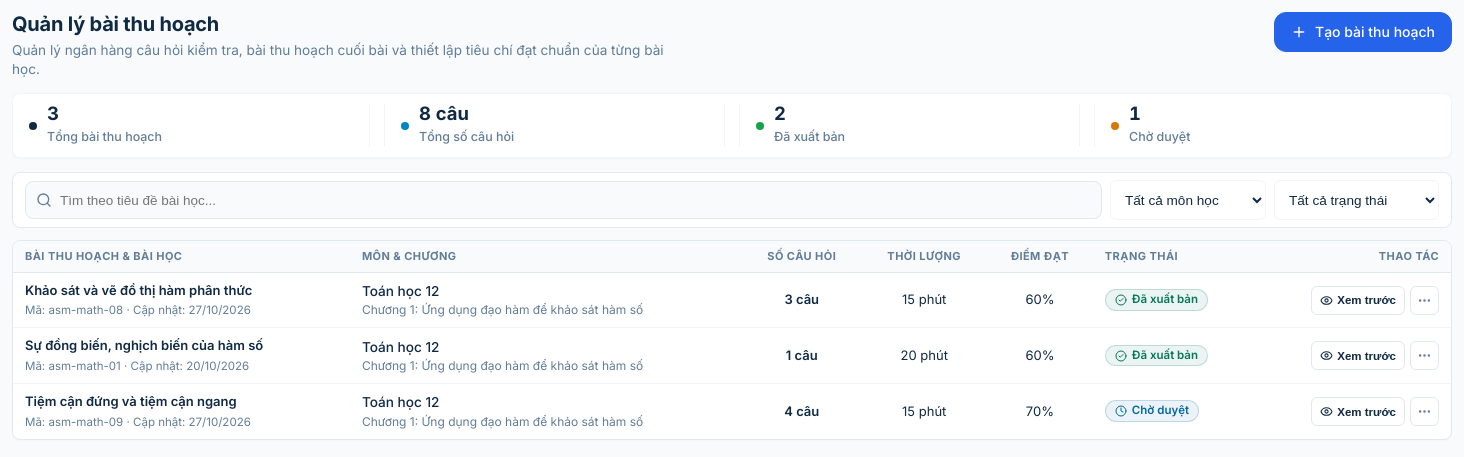
Test: Content Workspace UI & Interaction Suite › 5c. Action Dropdown opens secondary menu with add question, edit, status, and delete options
Click the button named "Thao tác khác": (1424,300) [1410, 286, 1439, 315]
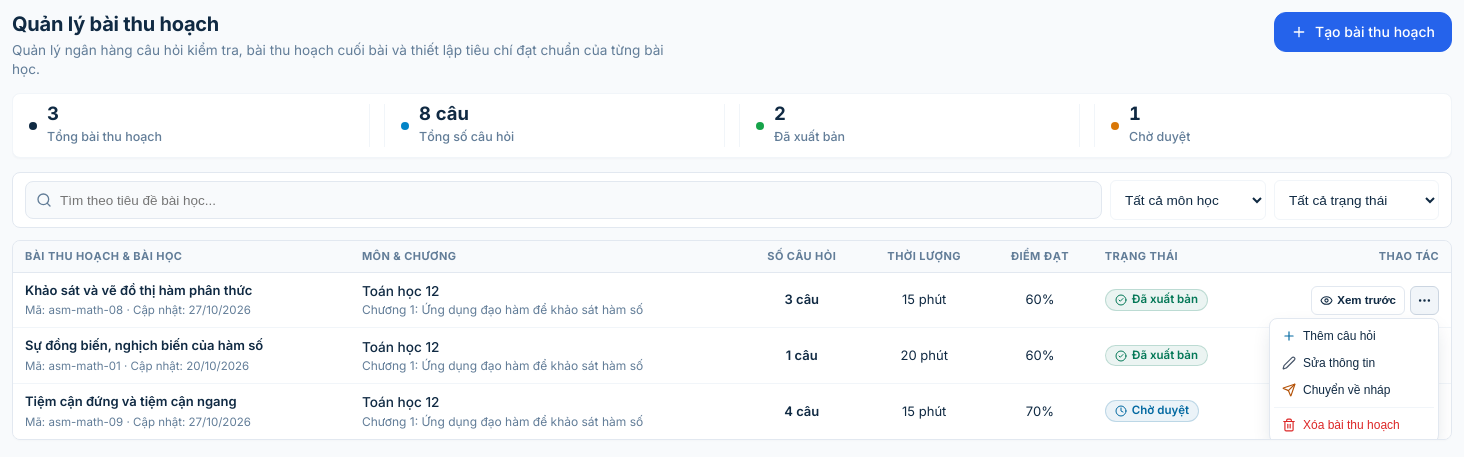
Check: the menu is shown, box [1269, 318, 1439, 440]
Check: the text "Thêm câu hỏi" is shown, box [1303, 329, 1376, 343]
Check: the text "Sửa thông tin" is shown, box [1303, 356, 1375, 370]
Pressing Escape closes menu
Press Escape
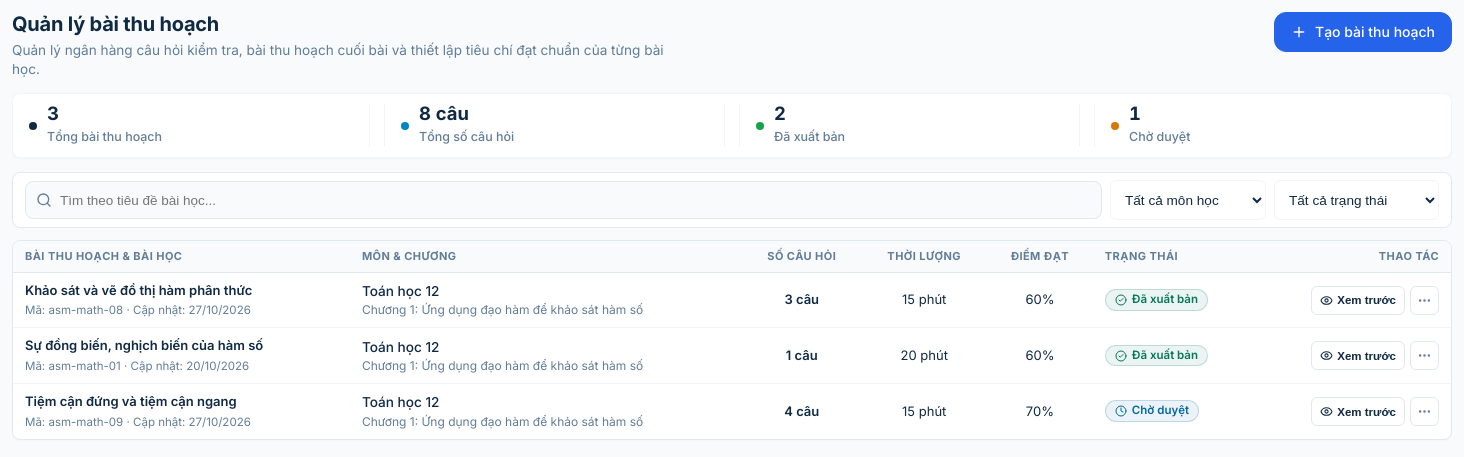
Check: the menu is gone
